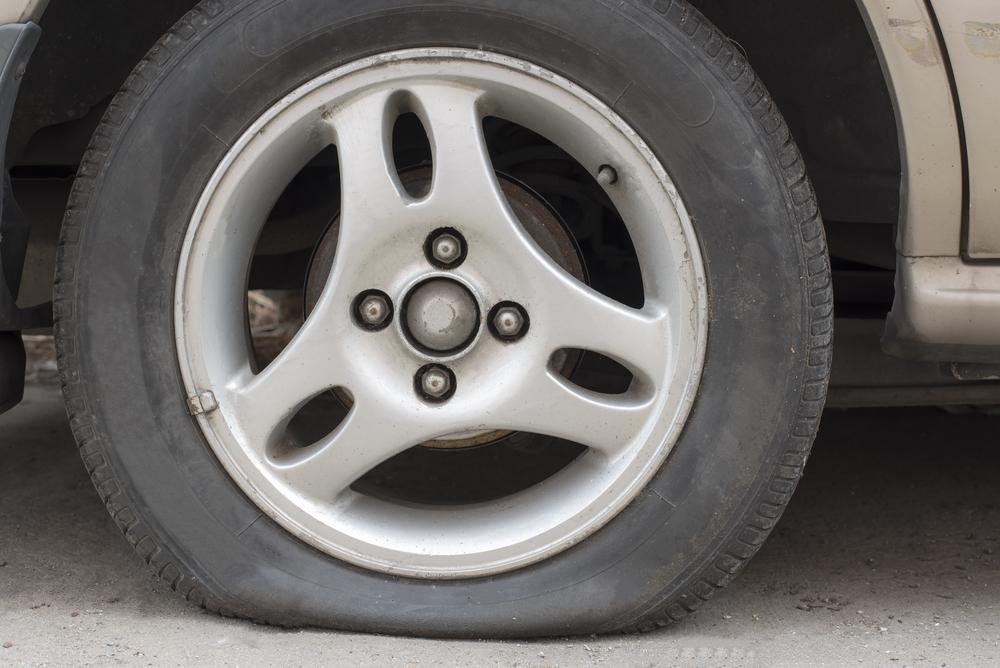tire flat: (52, 0, 834, 642)
